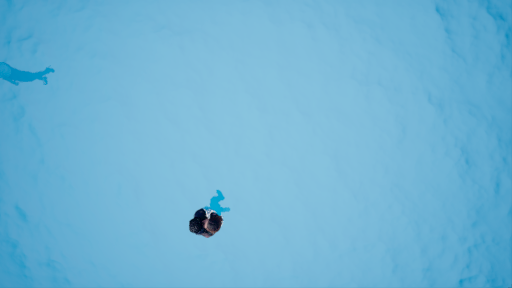person: (178, 183, 235, 240)
